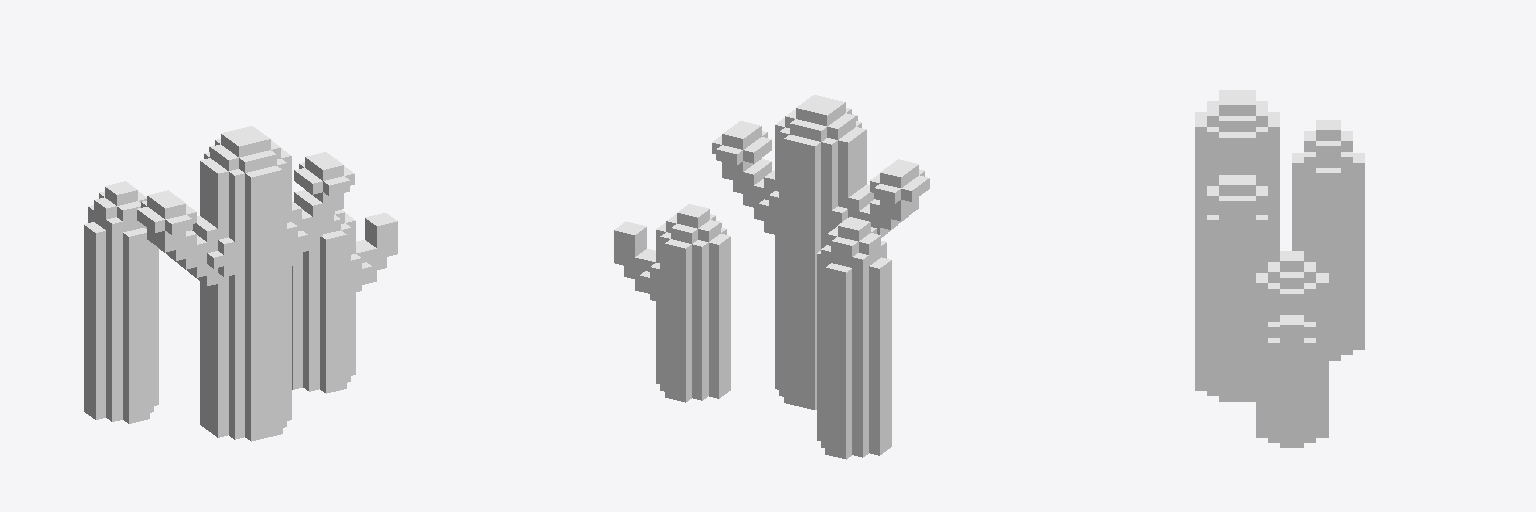
Rendered from 3mediumcactus.obj.
3 views of the same model, side by side, from view 1: azimuth 30°, elevation 25°; view 2: azimuth 150°, elevation 25°; view 3: azimuth 270°, elevation 25° (orthographic).
Visible parts, largest first — view 1: object 1; view 2: object 1; view 3: object 1.
Boxes of the visible parts, x1=… form: object 1: x1=84, y1=126, x2=397, y2=441; object 1: x1=614, y1=95, x2=929, y2=459; object 1: x1=1195, y1=90, x2=1364, y2=447.
Bounding box in the file's own units: 2.7 × 2.6 × 1.4.